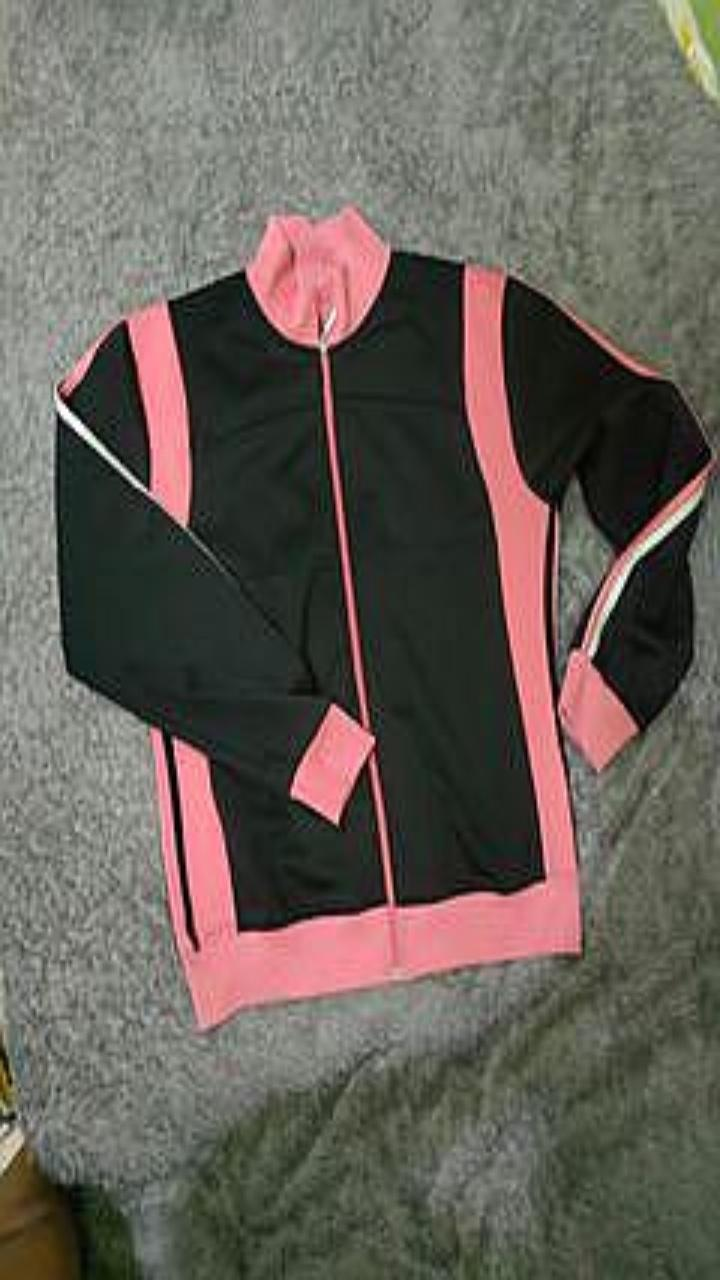Sports_Jacket: (54, 204, 716, 1028)
